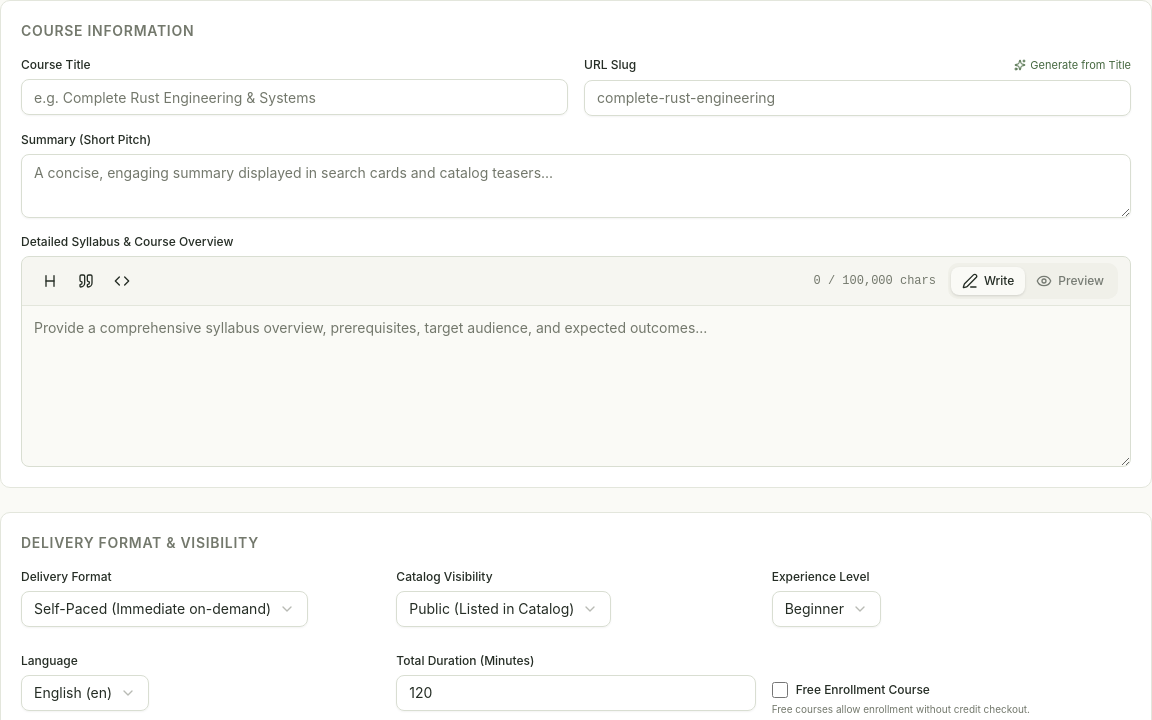
Authoring Feature Components › CourseForm › automatically updates slug as title changes in create mode
Type "Advanced Cloud Architectures" into the field labelled "Course Title". click: (294, 97)
box: [21,79,568,115]
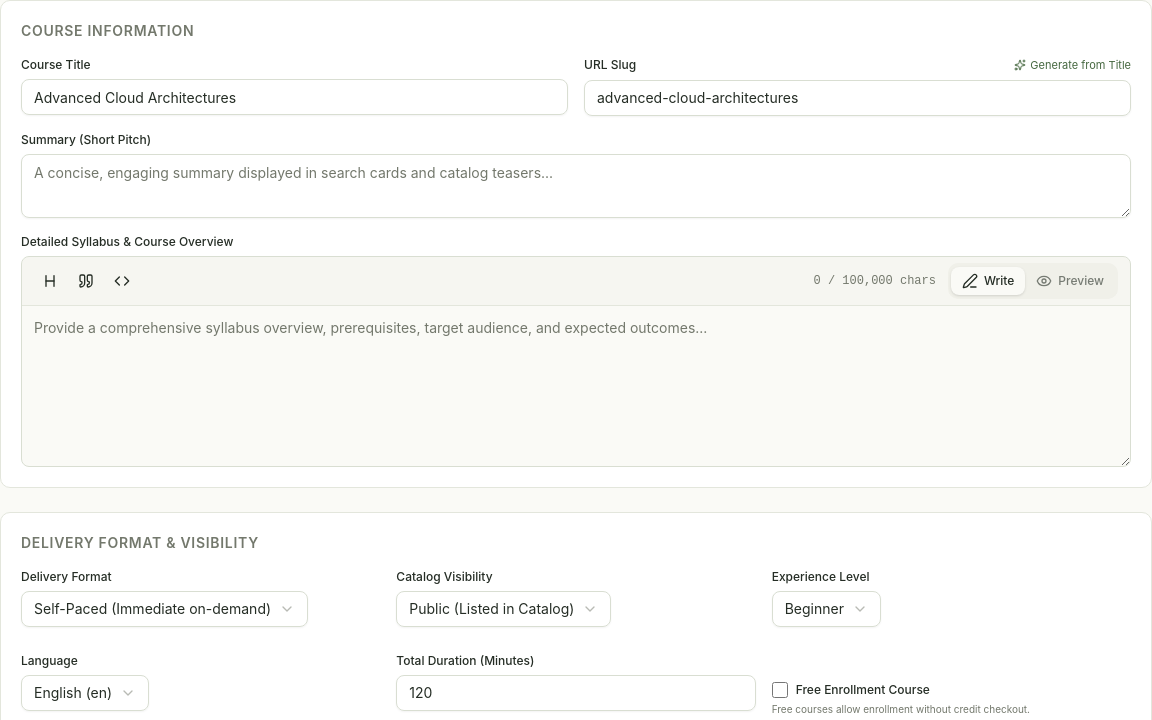
Expected: the field labelled "URL Slug" holds "advanced-cloud-architectures", [584,80,1131,116]
